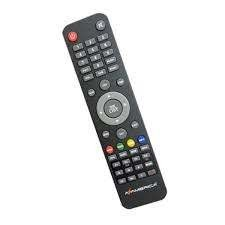remote control: (61, 16, 171, 210)
